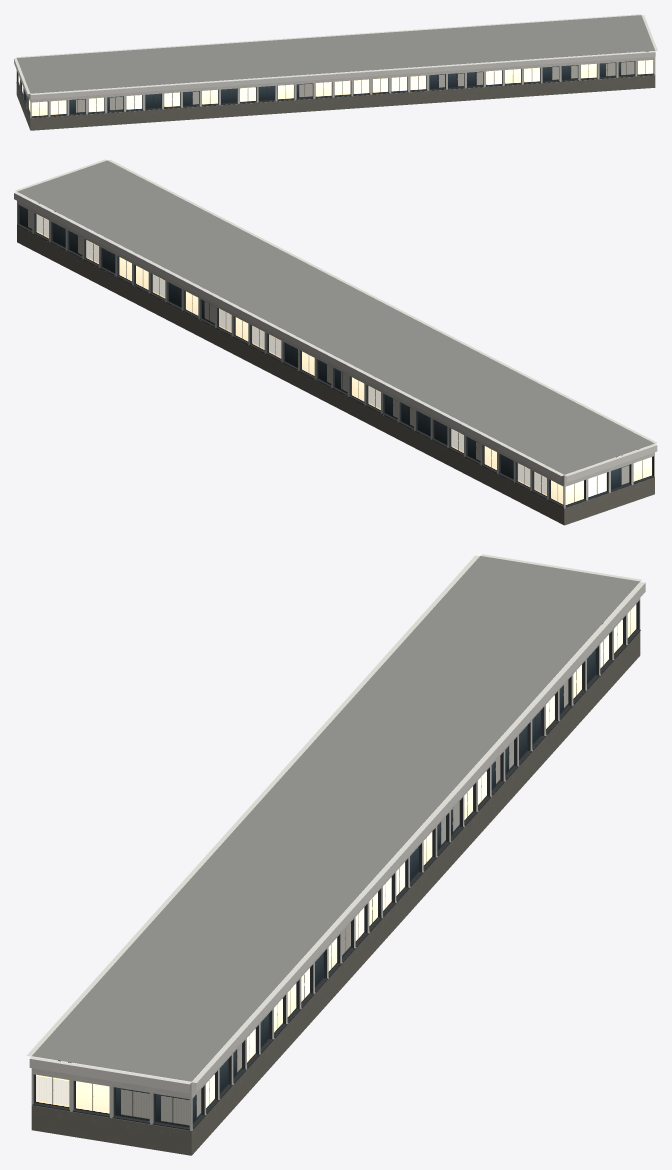
File: z5a_station.glb
3 renders of one model, top to bottom at view 1: azimuth 30°, elevation 25°; view 2: azimuth 150°, elevation 25°; view 3: azimuth 270°, elevation 25°, orthographic. The views are drawn at different scales.
Parts seen in each view (by area): view 1: z5a_station; view 2: z5a_station; view 3: z5a_station.
Part boxes in pixels (<box>): z5a_station: <box>14,14,657,130</box>; z5a_station: <box>14,159,657,525</box>; z5a_station: <box>26,554,645,1155</box>.
Bounding box in the file's own units: 138 × 8.95 × 67.85.
3 materials, 3 textured.
